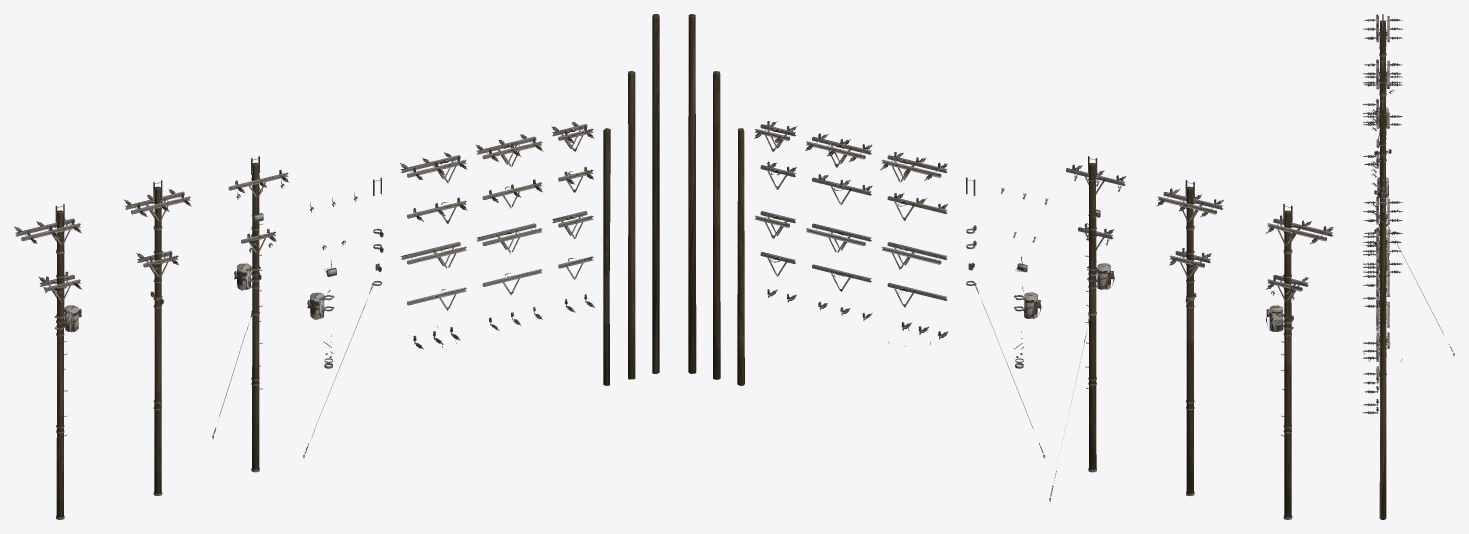
The model's file is modular_electricity_poles.glb.
3 renders of one model, left to right at view 1: azimuth 30°, elevation 25°; view 2: azimuth 150°, elevation 25°; view 3: azimuth 270°, elevation 25°, orthographic. The views are drawn at different scales.
Visible parts, largest first — view 1: pole_large, pole, preset_02_pole, preset_01_pole, preset_03_pole, pole_small, connection_large_01, connection_large_offset_01, preset_02_connection_large_01, preset_03_connection_large_offset_01; view 2: pole_large, pole, preset_01_pole, preset_02_pole, preset_03_pole, pole_small, connection_large_01, connection_large_offset_01, preset_02_connection_large_01, preset_03_connection_large_offset_01; view 3: pole_large, preset_01_pole, connection_large_offset_01, preset_03_connection_large_offset_01, preset_02_connection_large_01, connection_large_01, connection_small_01, preset_02_pole, preset_03_pole, preset_02_connection_small_01, preset_01_connection_large_02, preset_03_connection_small_01_02 (+5 smaller).
Boxes of the visible parts, bbox=[...] form: pole_large: bbox=[652, 14, 659, 373]; pole: bbox=[628, 71, 635, 379]; preset_02_pole: bbox=[154, 186, 161, 493]; preset_01_pole: bbox=[252, 162, 259, 469]; preset_03_pole: bbox=[56, 210, 64, 517]; pole_small: bbox=[603, 128, 610, 385]; connection_large_01: bbox=[475, 134, 543, 166]; connection_large_offset_01: bbox=[400, 152, 467, 182]; preset_02_connection_large_01: bbox=[124, 189, 191, 222]; preset_03_connection_large_offset_01: bbox=[14, 218, 81, 246]; pole_large: bbox=[688, 14, 696, 373]; pole: bbox=[713, 71, 720, 379]; preset_01_pole: bbox=[1089, 163, 1096, 469]; preset_02_pole: bbox=[1186, 186, 1193, 493]; preset_03_pole: bbox=[1284, 210, 1291, 517]; pole_small: bbox=[737, 128, 744, 385]; connection_large_01: bbox=[805, 133, 872, 167]; connection_large_offset_01: bbox=[880, 152, 948, 182]; preset_02_connection_large_01: bbox=[1156, 188, 1223, 222]; preset_03_connection_large_offset_01: bbox=[1266, 215, 1333, 246]; pole_large: bbox=[1379, 220, 1386, 519]; preset_01_pole: bbox=[1380, 100, 1385, 220]; connection_large_offset_01: bbox=[1363, 196, 1402, 231]; preset_03_connection_large_offset_01: bbox=[1363, 14, 1402, 49]; preset_02_connection_large_01: bbox=[1363, 59, 1402, 88]; connection_large_01: bbox=[1363, 228, 1402, 256]; connection_small_01: bbox=[1363, 258, 1402, 282]; preset_02_pole: bbox=[1380, 60, 1385, 100]; preset_03_pole: bbox=[1380, 20, 1385, 60]; preset_02_connection_small_01: bbox=[1363, 112, 1402, 135]; preset_01_connection_large_02: bbox=[1363, 99, 1386, 126]; preset_03_connection_small_01_02: bbox=[1363, 74, 1402, 92].
Size of the model in its own units: 13.12 by 6.99 by 1.96.
Materials: 2 (2 with a texture image).
